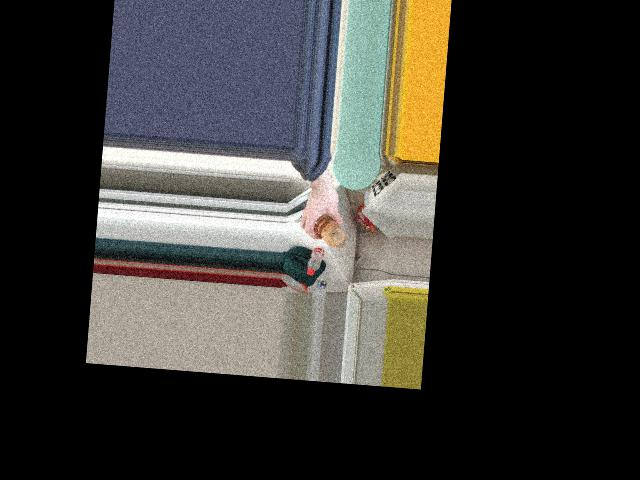sweet_potato: (314, 211, 346, 247)
